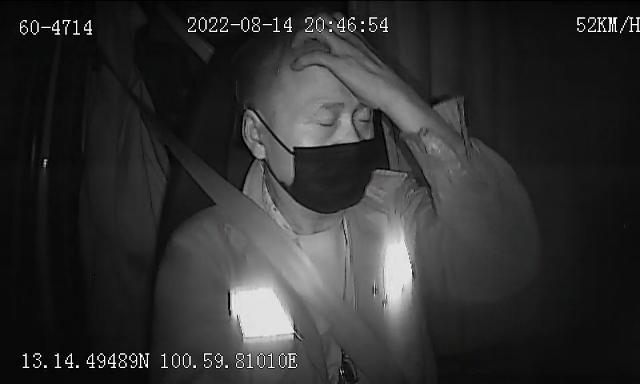Seatbelt: (141, 102, 399, 384)
